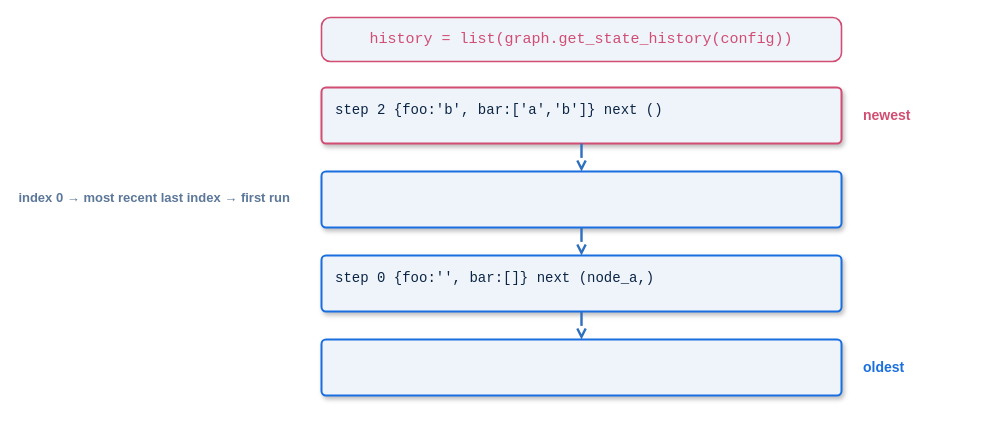
Image size: 998x421. Some labels were removed from this diagram. Here are the shapes that lost their labels. From the top down, the centre of each, then its label:
At (x=582, y=200): "step 1 {foo:'a', bar:['a']} next (node_b,)".
At (x=582, y=368): "step -1 {bar:[]} next (__start__,)".
